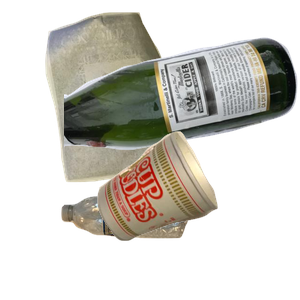glass: (64, 35, 300, 181)
paper: (43, 10, 221, 185)
plastic: (59, 193, 241, 300)
trash: (95, 129, 300, 300)
